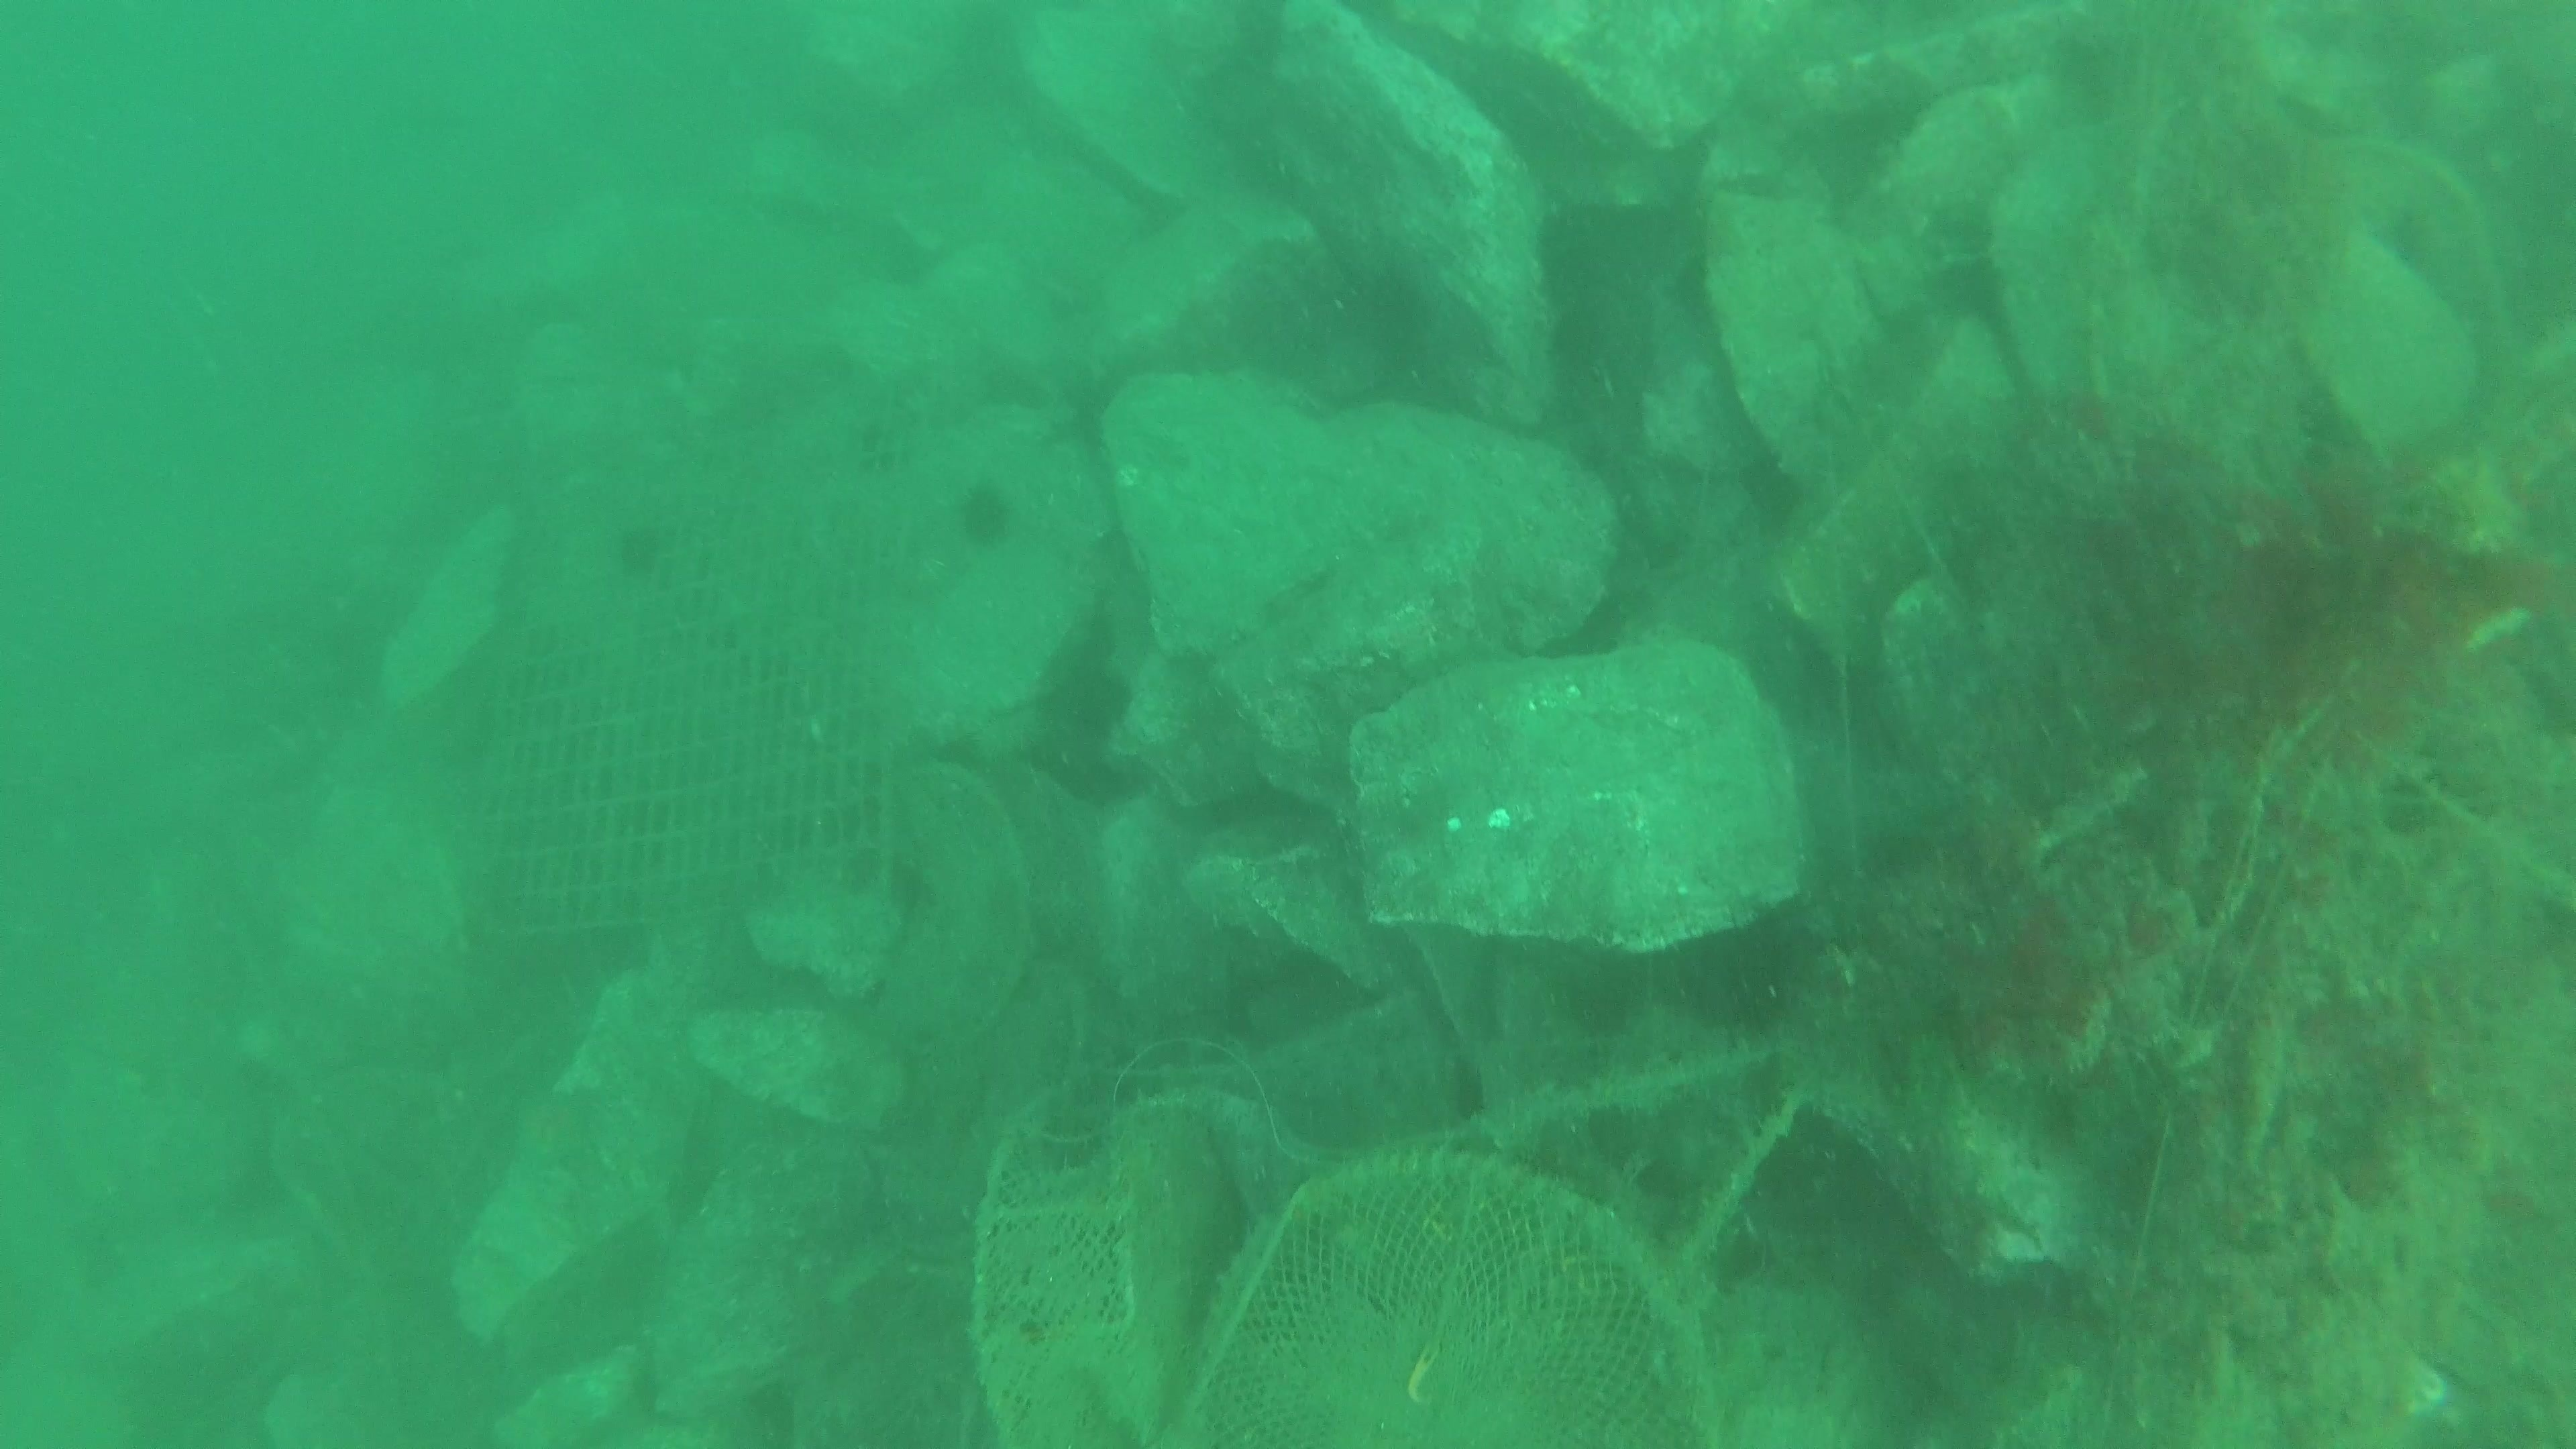echinus: (1672, 904, 1819, 1039), (948, 474, 1023, 552)
